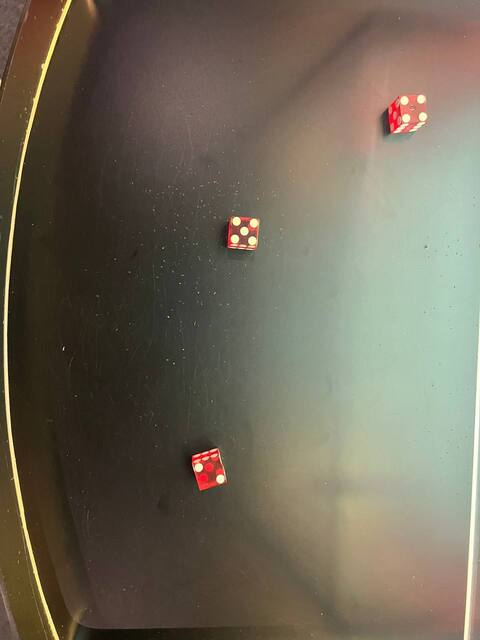five: (224, 213, 263, 248)
four: (396, 89, 433, 126)
two: (191, 456, 231, 493)
